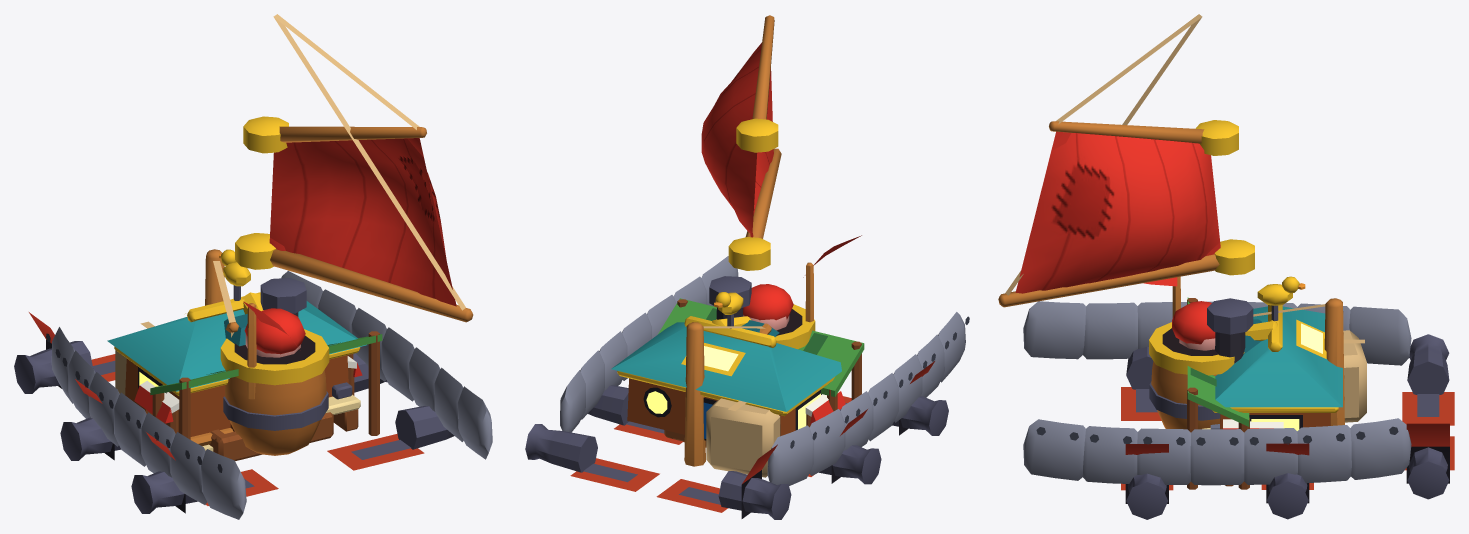
File: modules.glb
3 renders of one model, left to right at view 1: azimuth 30°, elevation 25°; view 2: azimuth 150°, elevation 25°; view 3: azimuth 270°, elevation 25°, orthographic. The views are drawn at different scales.
Visible parts, largest first — view 1: GaffSail, Plating, CrowsNest, Quarters, RiggingSpars, GunDeck, Workshop, CargoHold, Galley, Infirmary; view 2: Quarters, Plating, GunDeck, CargoHold, GaffSail, RiggingSpars, CrowsNest, Workshop, Galley, Infirmary; view 3: Plating, GaffSail, GunDeck, Quarters, RiggingSpars, CrowsNest, CargoHold, Galley, Workshop.
Part boxes in pixels (x1,y1,x2,y2): GaffSail: [269, 138, 456, 306]; Plating: [46, 271, 492, 519]; CrowsNest: [220, 292, 329, 455]; Quarters: [107, 249, 366, 436]; RiggingSpars: [235, 14, 473, 322]; GunDeck: [14, 312, 454, 513]; Workshop: [150, 331, 382, 451]; CargoHold: [115, 249, 333, 461]; Galley: [224, 278, 306, 431]; Infirmary: [134, 356, 362, 433]; Quarters: [611, 292, 841, 440]; Plating: [560, 256, 969, 485]; GunDeck: [525, 361, 948, 519]; CargoHold: [664, 322, 780, 477]; GaffSail: [701, 42, 773, 237]; RiggingSpars: [728, 15, 781, 270]; CrowsNest: [712, 235, 861, 349]; Workshop: [658, 298, 864, 411]; Galley: [709, 276, 779, 336]; Infirmary: [805, 390, 845, 427]; Plating: [1023, 301, 1411, 485]; GaffSail: [1015, 131, 1220, 293]; GunDeck: [1121, 334, 1454, 519]; Quarters: [1212, 276, 1342, 430]; RiggingSpars: [998, 14, 1254, 307]; CrowsNest: [1143, 276, 1277, 429]; CargoHold: [1253, 298, 1366, 425]; Galley: [1207, 298, 1261, 363]; Workshop: [1187, 297, 1249, 489].
Size of the model in its own units: 1.19 by 1.53 by 1.48.
5 materials, 2 textured.
